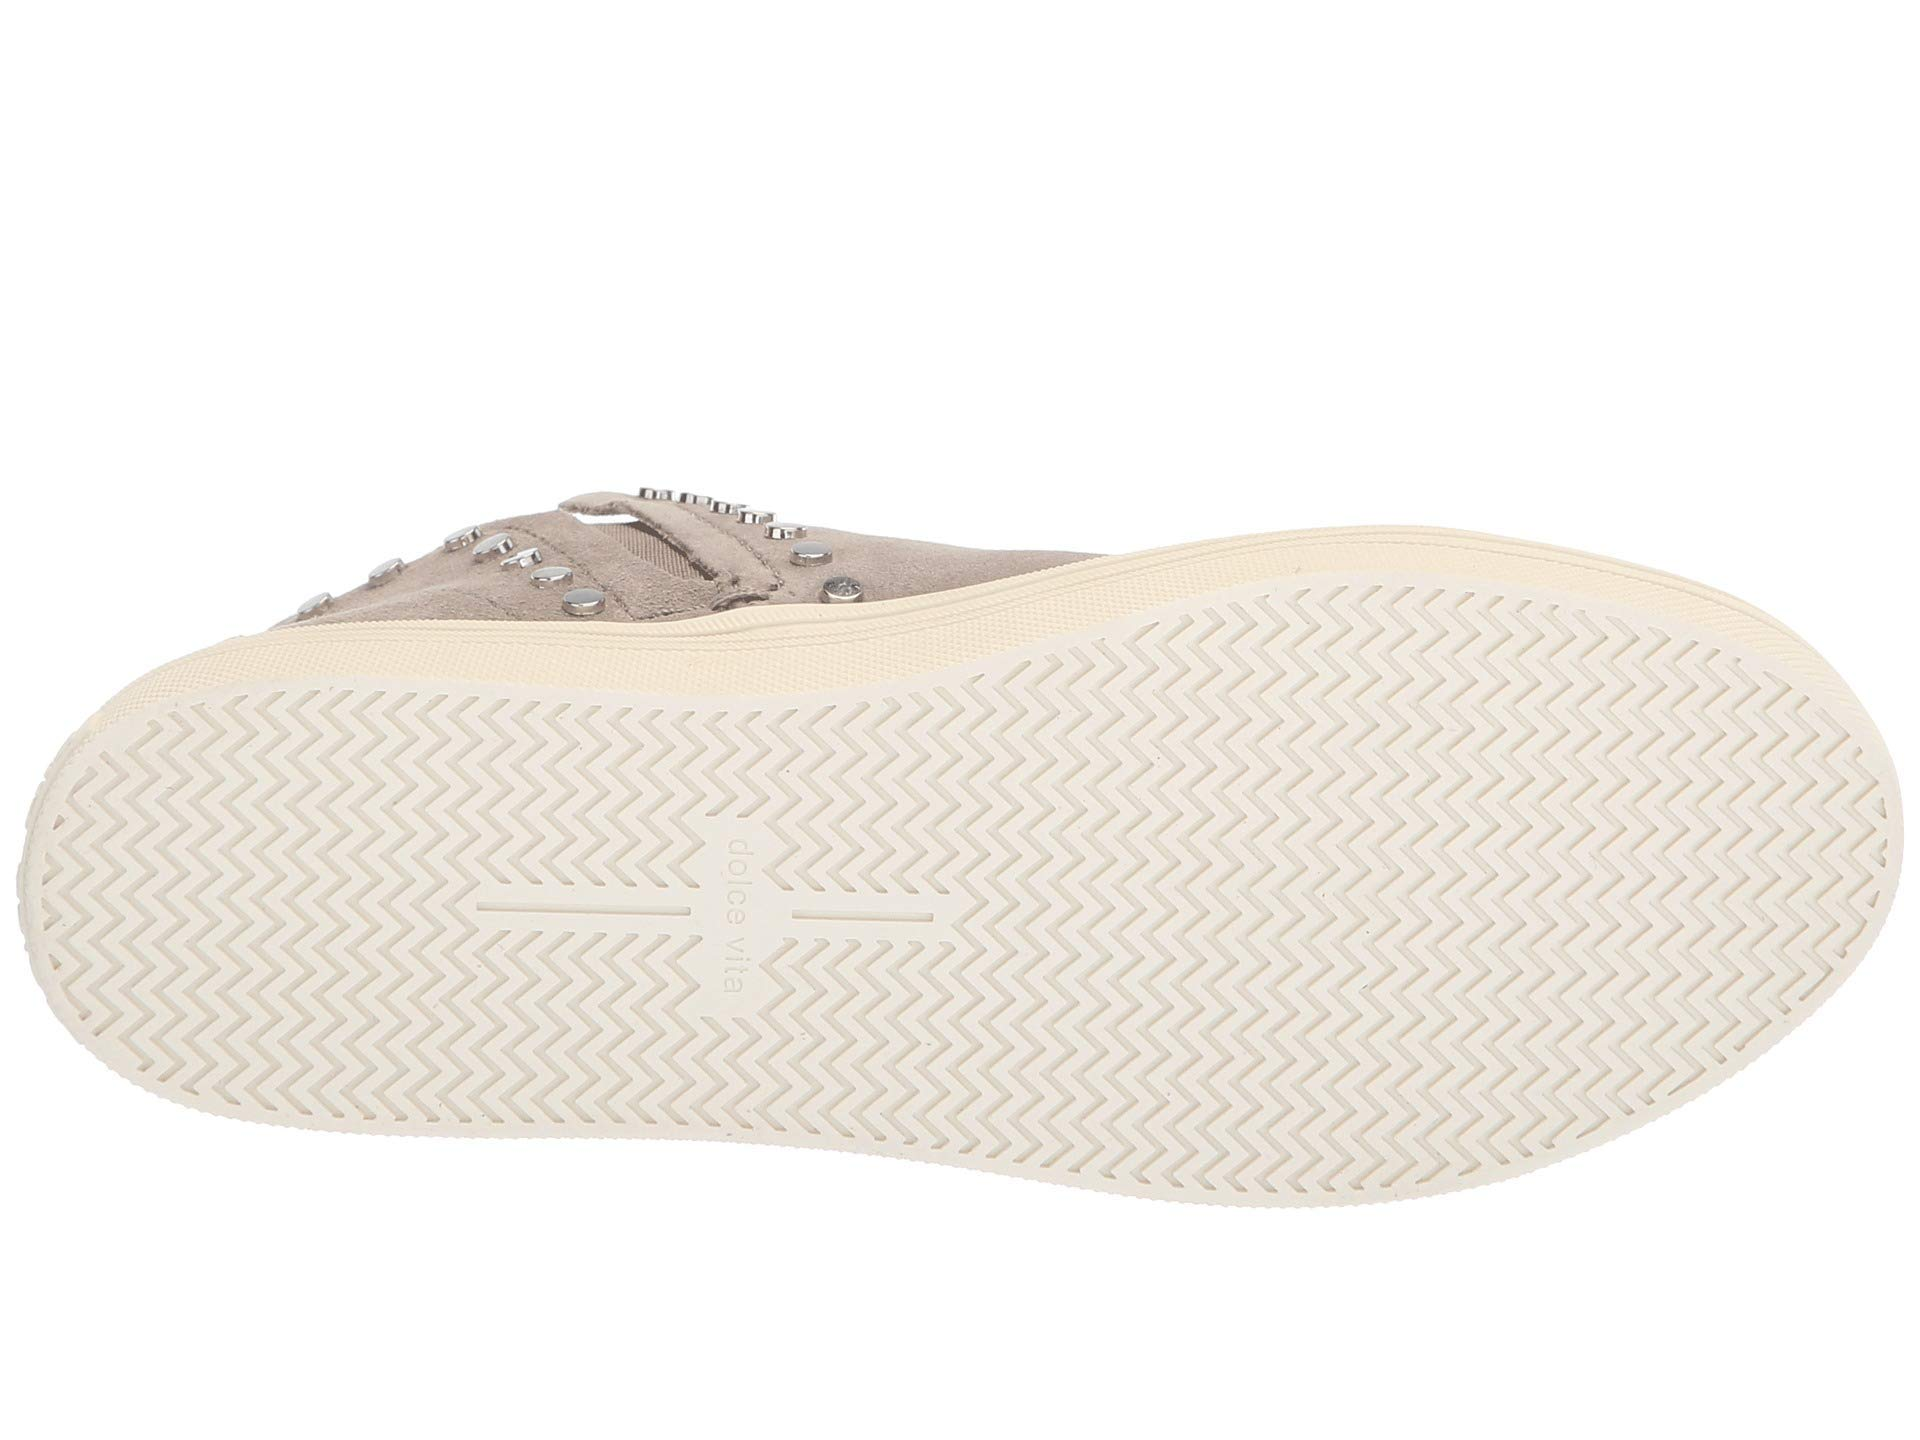chevron: (1175, 629, 1690, 1068), (426, 787, 996, 1066)
line: (426, 787, 996, 1066)
text: (426, 787, 996, 1066)
